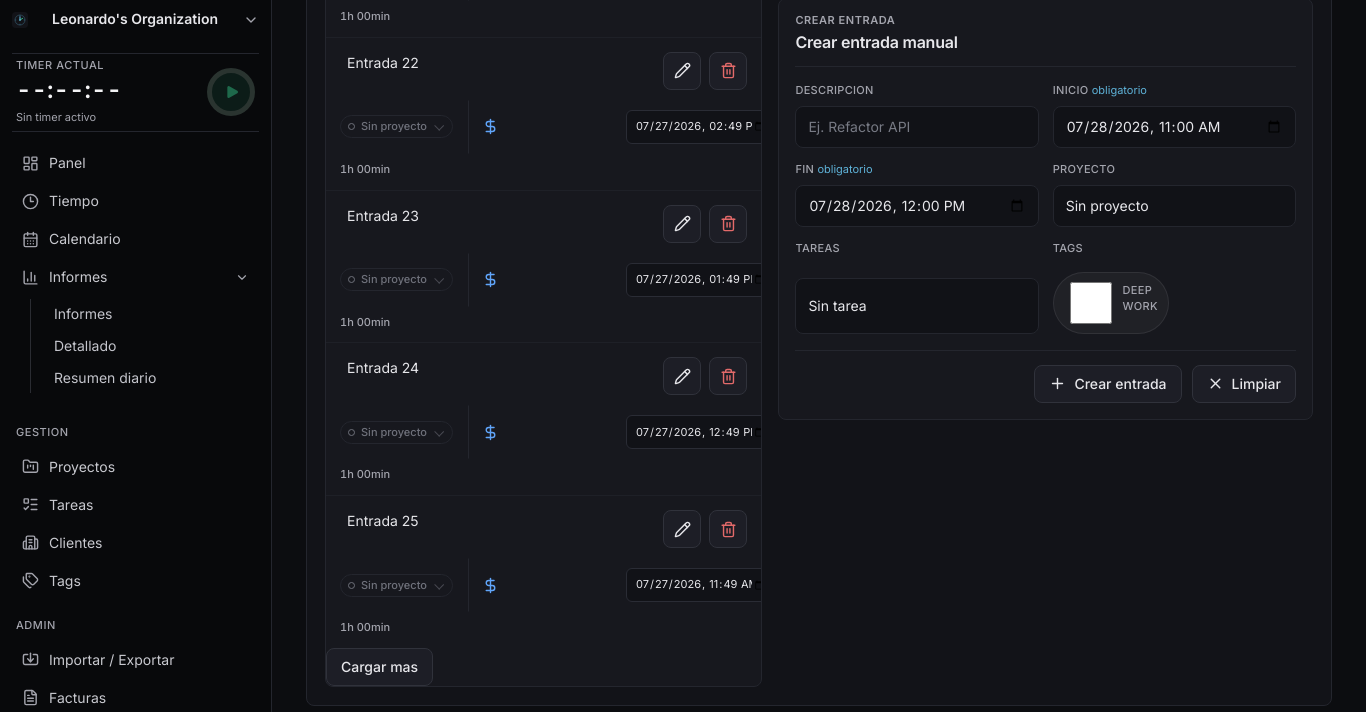
Test: App › manual entry directory paginates beyond the old 12-row cap
The image size is (1366, 712).
(page scrolled)
Click the button "Cargar mas" at (380, 667), box x1=326 y1=648 x2=433 y2=686
(page scrolled)
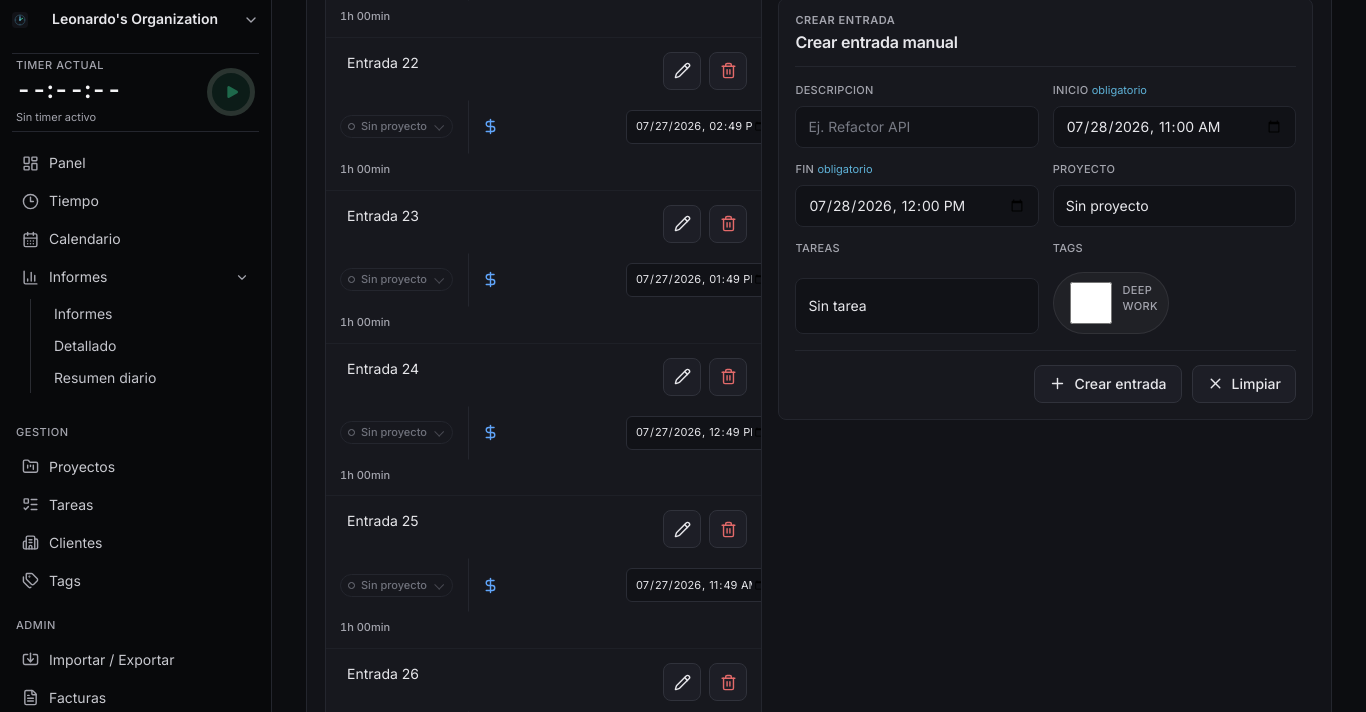
Result: the button "Cargar mas" is gone
